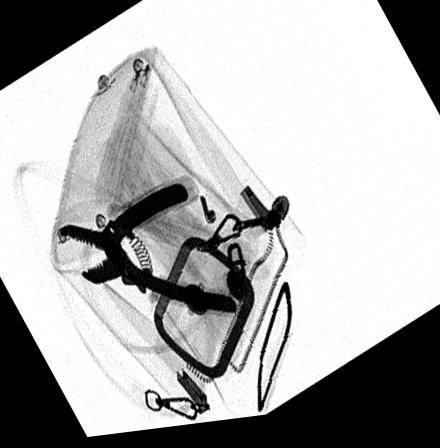Pliers: (59, 183, 238, 318)
